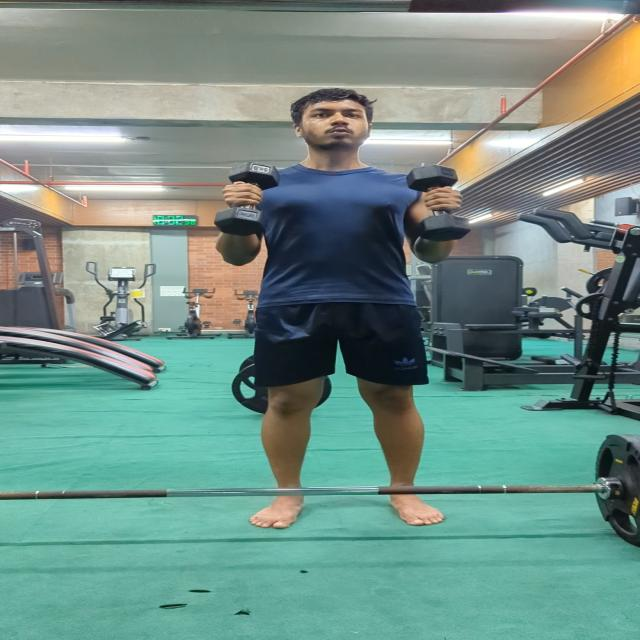Normal_DumbbellBicepCurls: (203, 81, 476, 537)
